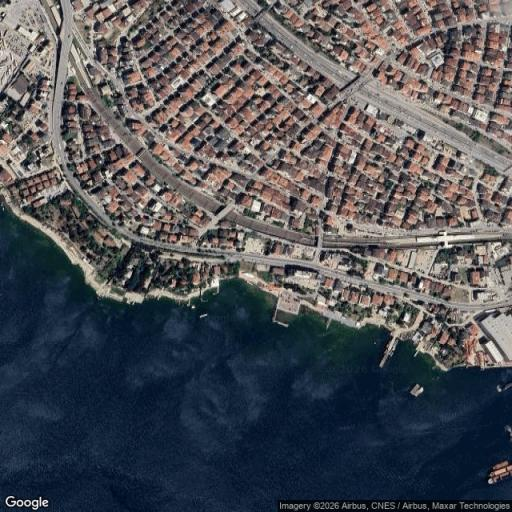ship: (487, 470, 511, 485), (487, 464, 511, 477), (490, 461, 510, 471), (411, 384, 423, 396), (497, 383, 511, 392)
